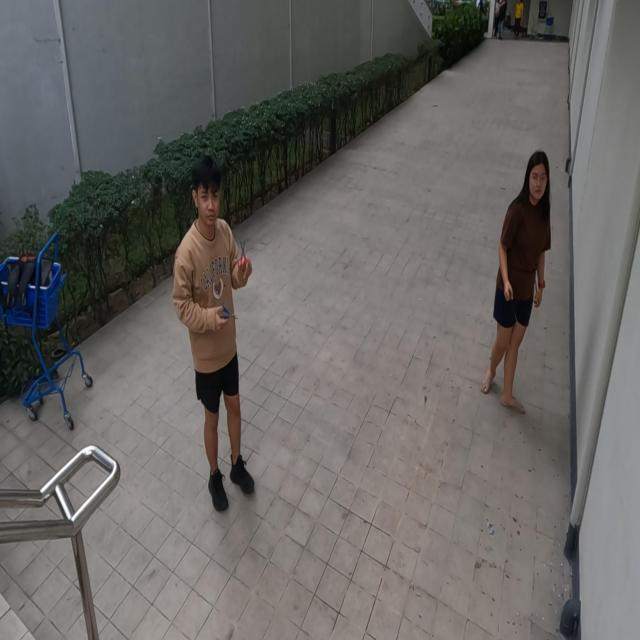scissor: (238, 239, 250, 273), (220, 302, 238, 321)
